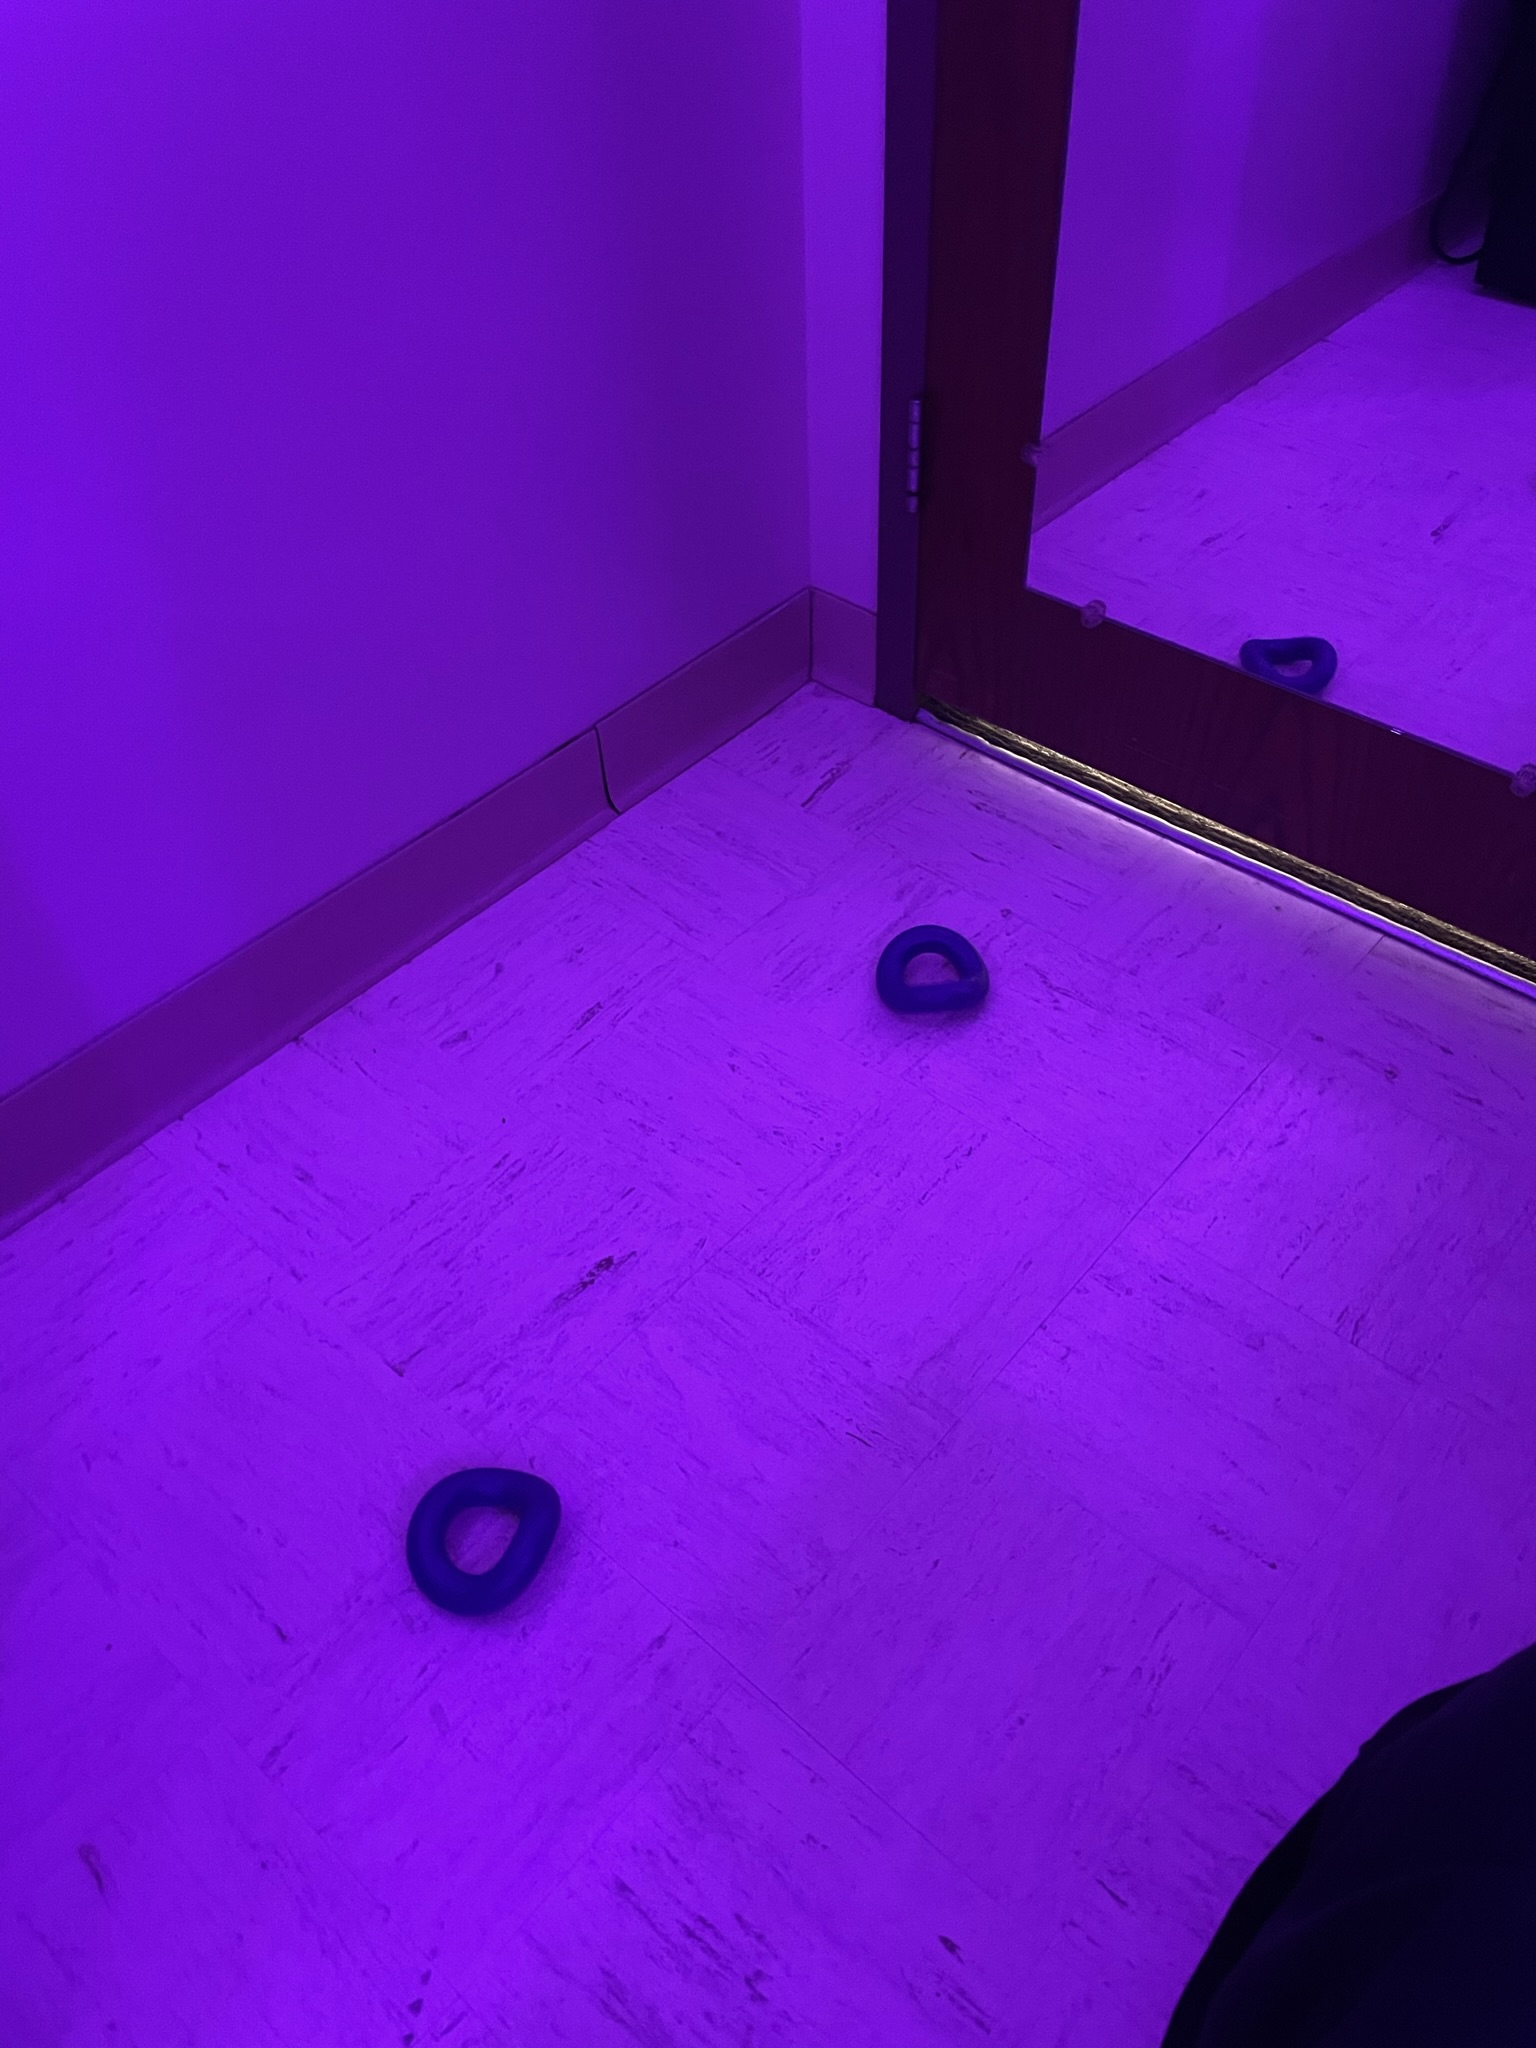ring: (403, 1466, 561, 1614), (874, 922, 989, 1018)
